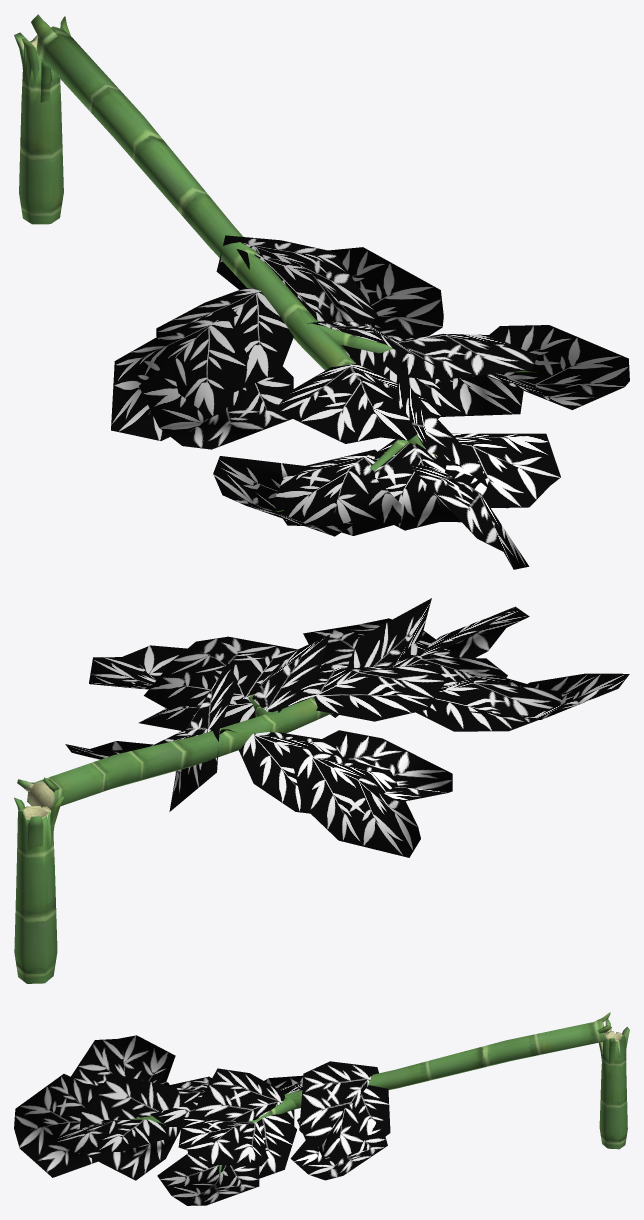
File: P_BambooFallen.obj
The picture shows the model from 3 angles, top to bottom: view 1: azimuth 30°, elevation 25°; view 2: azimuth 150°, elevation 25°; view 3: azimuth 270°, elevation 25°; orthographic projection. The views are drawn at different scales.
Size of the model in its own units: 6.64 by 3.19 by 11.8.
